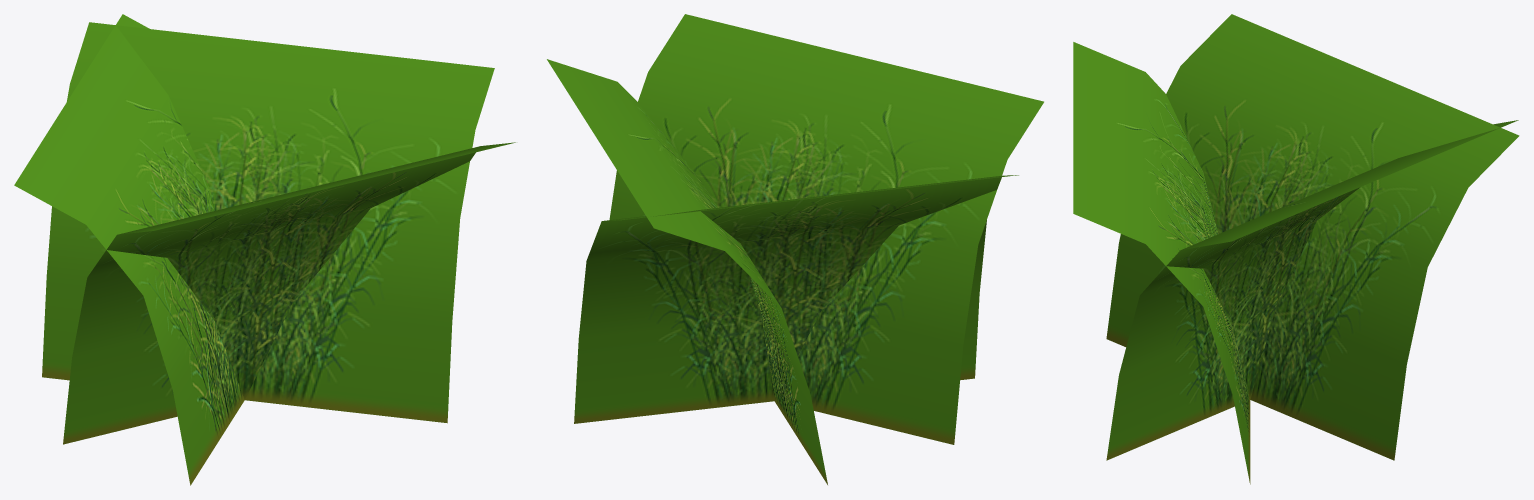
The model's file is sb_obj_nature002_Grass01b.fbx.
3 renders of one model, left to right at view 1: azimuth 30°, elevation 25°; view 2: azimuth 150°, elevation 25°; view 3: azimuth 270°, elevation 25°, orthographic. The views are drawn at different scales.
Parts seen in each view (by area): view 1: sb_obj_nature002_Grass01b; view 2: sb_obj_nature002_Grass01b; view 3: sb_obj_nature002_Grass01b.
Boxes of the visible parts, x1,y1,x2,y2 form: sb_obj_nature002_Grass01b: [14, 14, 515, 485]; sb_obj_nature002_Grass01b: [547, 14, 1043, 484]; sb_obj_nature002_Grass01b: [1073, 14, 1519, 484].
Bounding box in the file's own units: 2.12 × 1.18 × 1.75.
